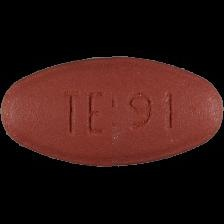21695-024: (0, 0, 224, 224)
